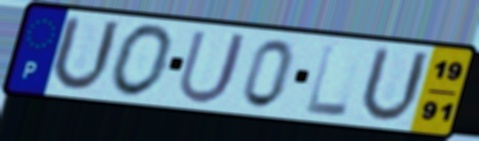0: (239, 36, 297, 111)
L: (303, 42, 351, 119)
O: (107, 21, 178, 100)
U: (46, 12, 124, 95), (355, 43, 433, 126), (174, 27, 252, 107)
